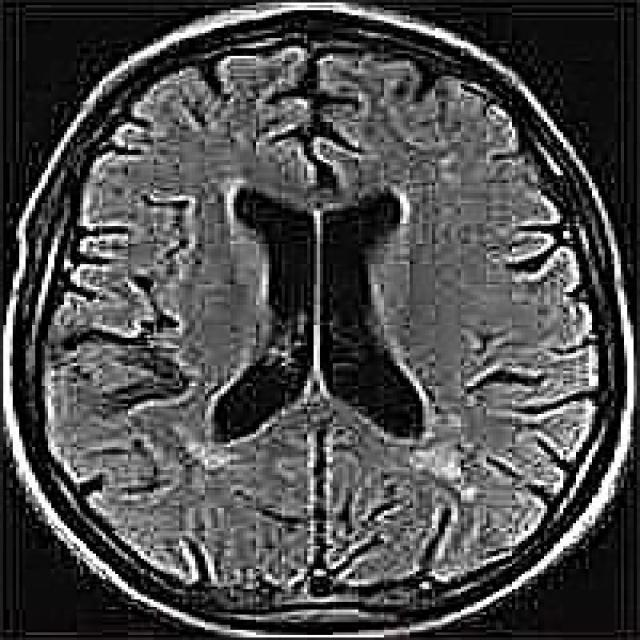notumor: (10, 8, 630, 632)
